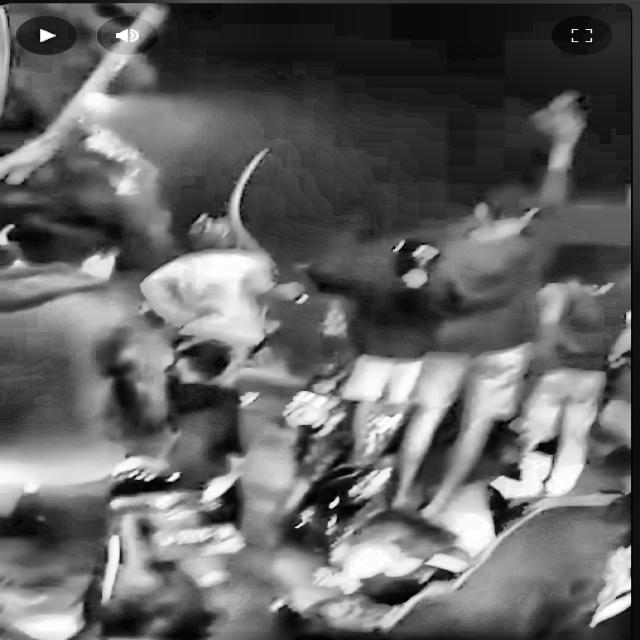celurit: (201, 142, 312, 311)
